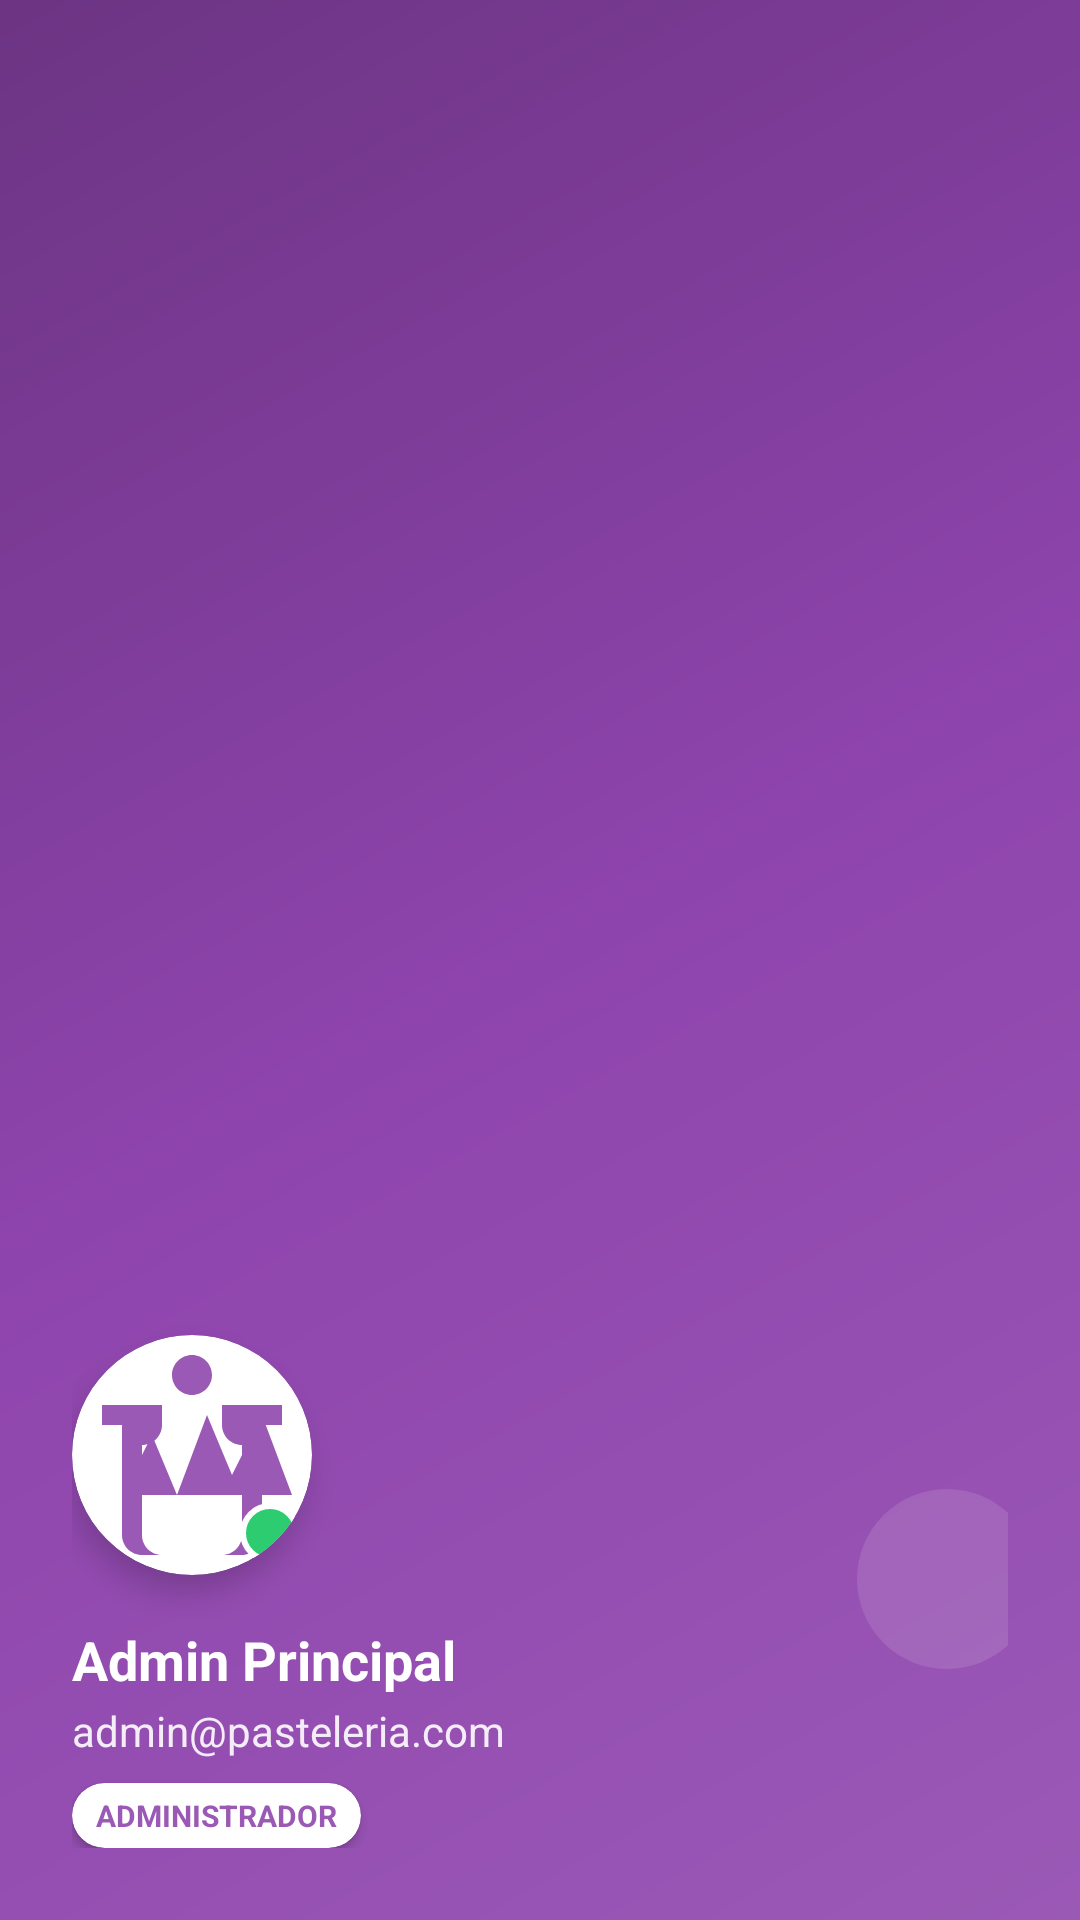

Screen size 1080x1920. Icon name, then its center in pixels as point (x, y):
status online indicator: point (270, 1533)
